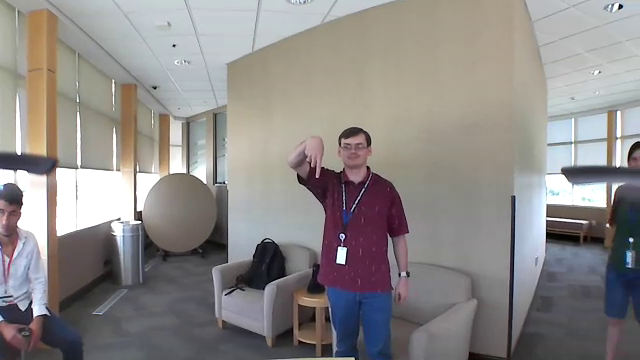down: (300, 132, 328, 181)
